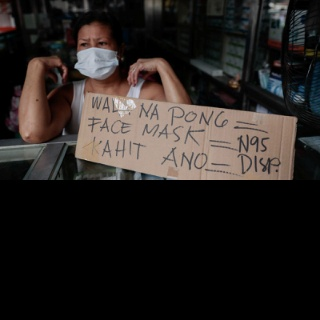with_mask: (74, 35, 120, 80)
